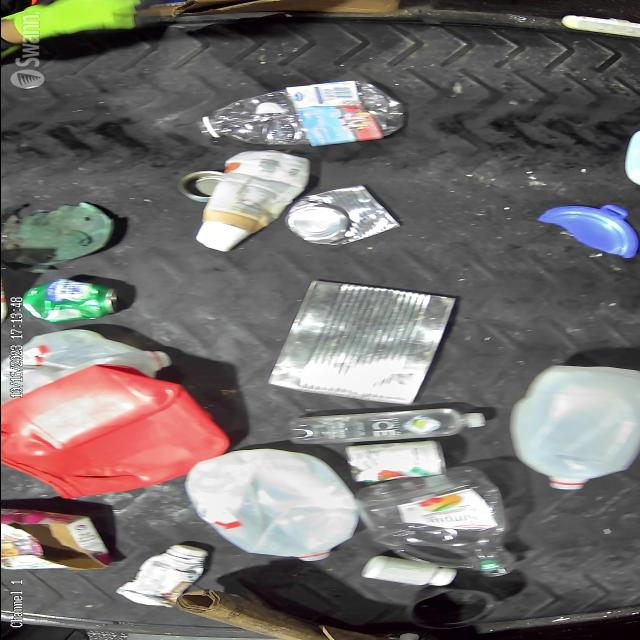can: (290, 184, 400, 250), (342, 438, 460, 482), (22, 278, 122, 326)
milk_jug: (185, 448, 355, 564), (514, 364, 640, 497), (0, 325, 184, 396)
plastic_bottle: (191, 82, 410, 144), (286, 399, 482, 445)
